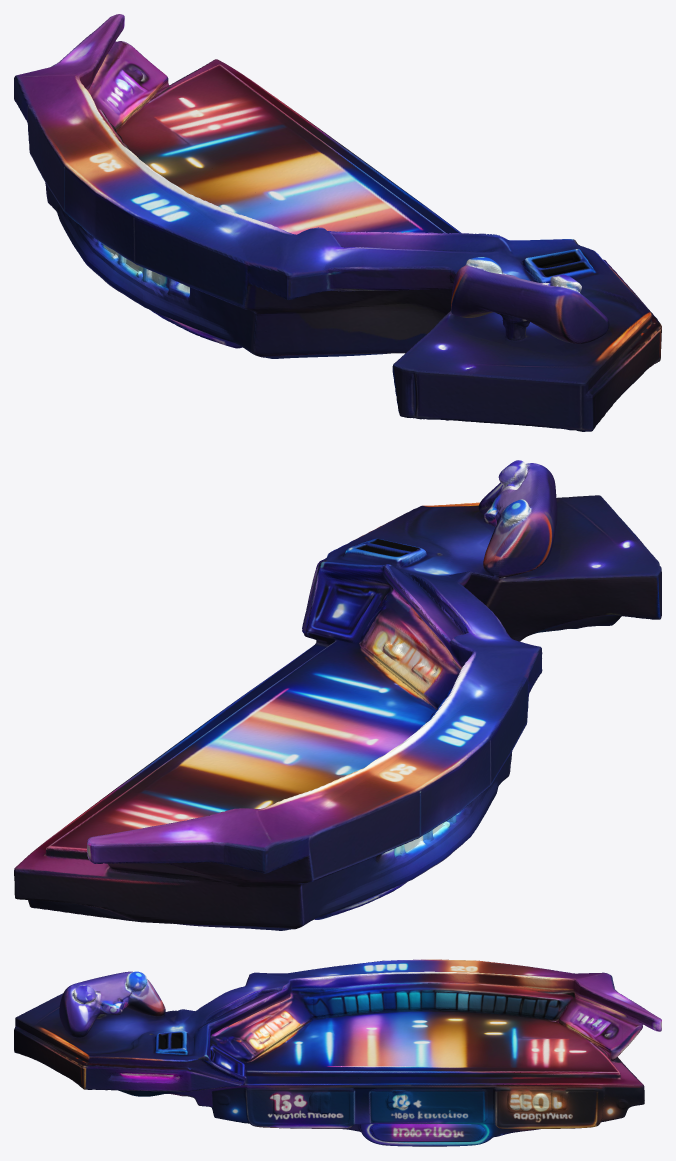
File: space+game+scene+3d+model.glb
3 views of the same model, one above another, from view 1: azimuth 30°, elevation 25°; view 2: azimuth 150°, elevation 25°; view 3: azimuth 270°, elevation 25° (orthographic). The views are drawn at different scales.
Parts seen in each view (by area): view 1: tripo_node_515a683c-0225-4d71-be3c-51df8d355d6a; view 2: tripo_node_515a683c-0225-4d71-be3c-51df8d355d6a; view 3: tripo_node_515a683c-0225-4d71-be3c-51df8d355d6a.
Boxes of the visible parts, <box> form: tripo_node_515a683c-0225-4d71-be3c-51df8d355d6a: <box>14,14,661,431</box>; tripo_node_515a683c-0225-4d71-be3c-51df8d355d6a: <box>14,460,661,930</box>; tripo_node_515a683c-0225-4d71-be3c-51df8d355d6a: <box>14,959,661,1146</box>.
Size of the model in its own units: 0.3832 by 0.2513 by 1.
1 material, 1 textured.
